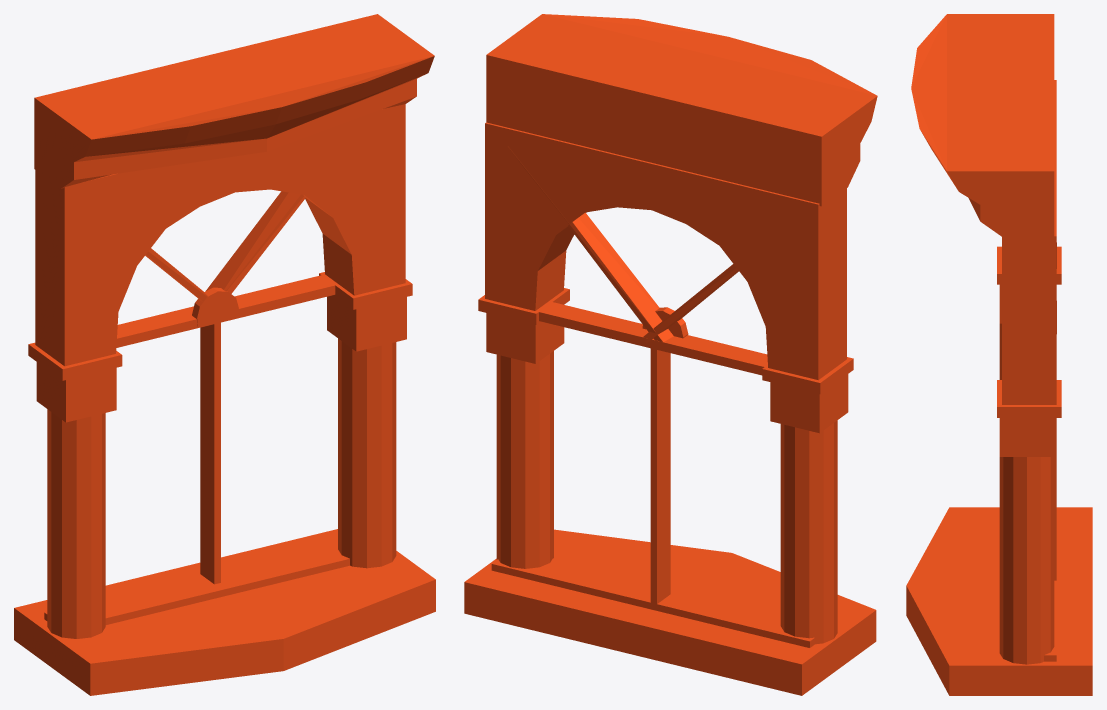
The model's file is window red by Phiam Ash - 42K6hiwv-fo.glb.
3 renders of one model, left to right at view 1: azimuth 30°, elevation 25°; view 2: azimuth 150°, elevation 25°; view 3: azimuth 270°, elevation 25°, orthographic. The views are drawn at different scales.
Visible parts, largest first — view 1: group2020145441, group1499865639, group426108084, group22664855, group957366910, group1079120984, group212212605, group498268586, group724391173, group1292586850, group14028257, group746266077 (+4 smaller); view 2: group2020145441, group1499865639, group426108084, group22664855, group957366910, group1079120984, group212212605, group498268586, group724391173, group746266077, group1292586850, group14028257 (+3 smaller); view 3: group2020145441, group1499865639, group1079120984, group22664855, group14028257, group1513376014, group498268586, group315176417, group212212605.
Part boxes in pixels (box(x1,y1,x2,y2)): group2020145441: box(34, 14, 434, 188); group1499865639: box(14, 529, 435, 695); group426108084: box(35, 155, 242, 366); group22664855: box(236, 104, 405, 295); group957366910: box(47, 409, 105, 638); group1079120984: box(338, 338, 396, 568); group212212605: box(44, 540, 349, 624); group498268586: box(200, 321, 220, 584); group724391173: box(116, 275, 335, 347); group1292586850: box(36, 362, 116, 422); group14028257: box(327, 295, 406, 351); group746266077: box(205, 191, 305, 293); group2020145441: box(486, 14, 877, 206); group1499865639: box(464, 529, 876, 695); group426108084: box(649, 163, 846, 380); group22664855: box(485, 122, 659, 310); group957366910: box(780, 420, 837, 644); group1079120984: box(496, 351, 553, 568); group212212605: box(491, 558, 814, 647); group498268586: box(650, 341, 670, 608); group724391173: box(539, 302, 767, 375); group746266077: box(507, 146, 673, 342); group1292586850: box(770, 374, 848, 433); group14028257: box(486, 313, 564, 363); group2020145441: box(911, 14, 1054, 238); group1499865639: box(906, 507, 1092, 695); group1079120984: box(999, 457, 1054, 664); group22664855: box(1002, 156, 1056, 404); group14028257: box(999, 418, 1054, 456); group1513376014: box(997, 380, 1061, 417); group498268586: box(1054, 418, 1056, 580); group315176417: box(997, 246, 1061, 284); group212212605: box(1044, 580, 1056, 661).
Bounding box in the file's own units: 1.59 × 2.44 × 0.78.
